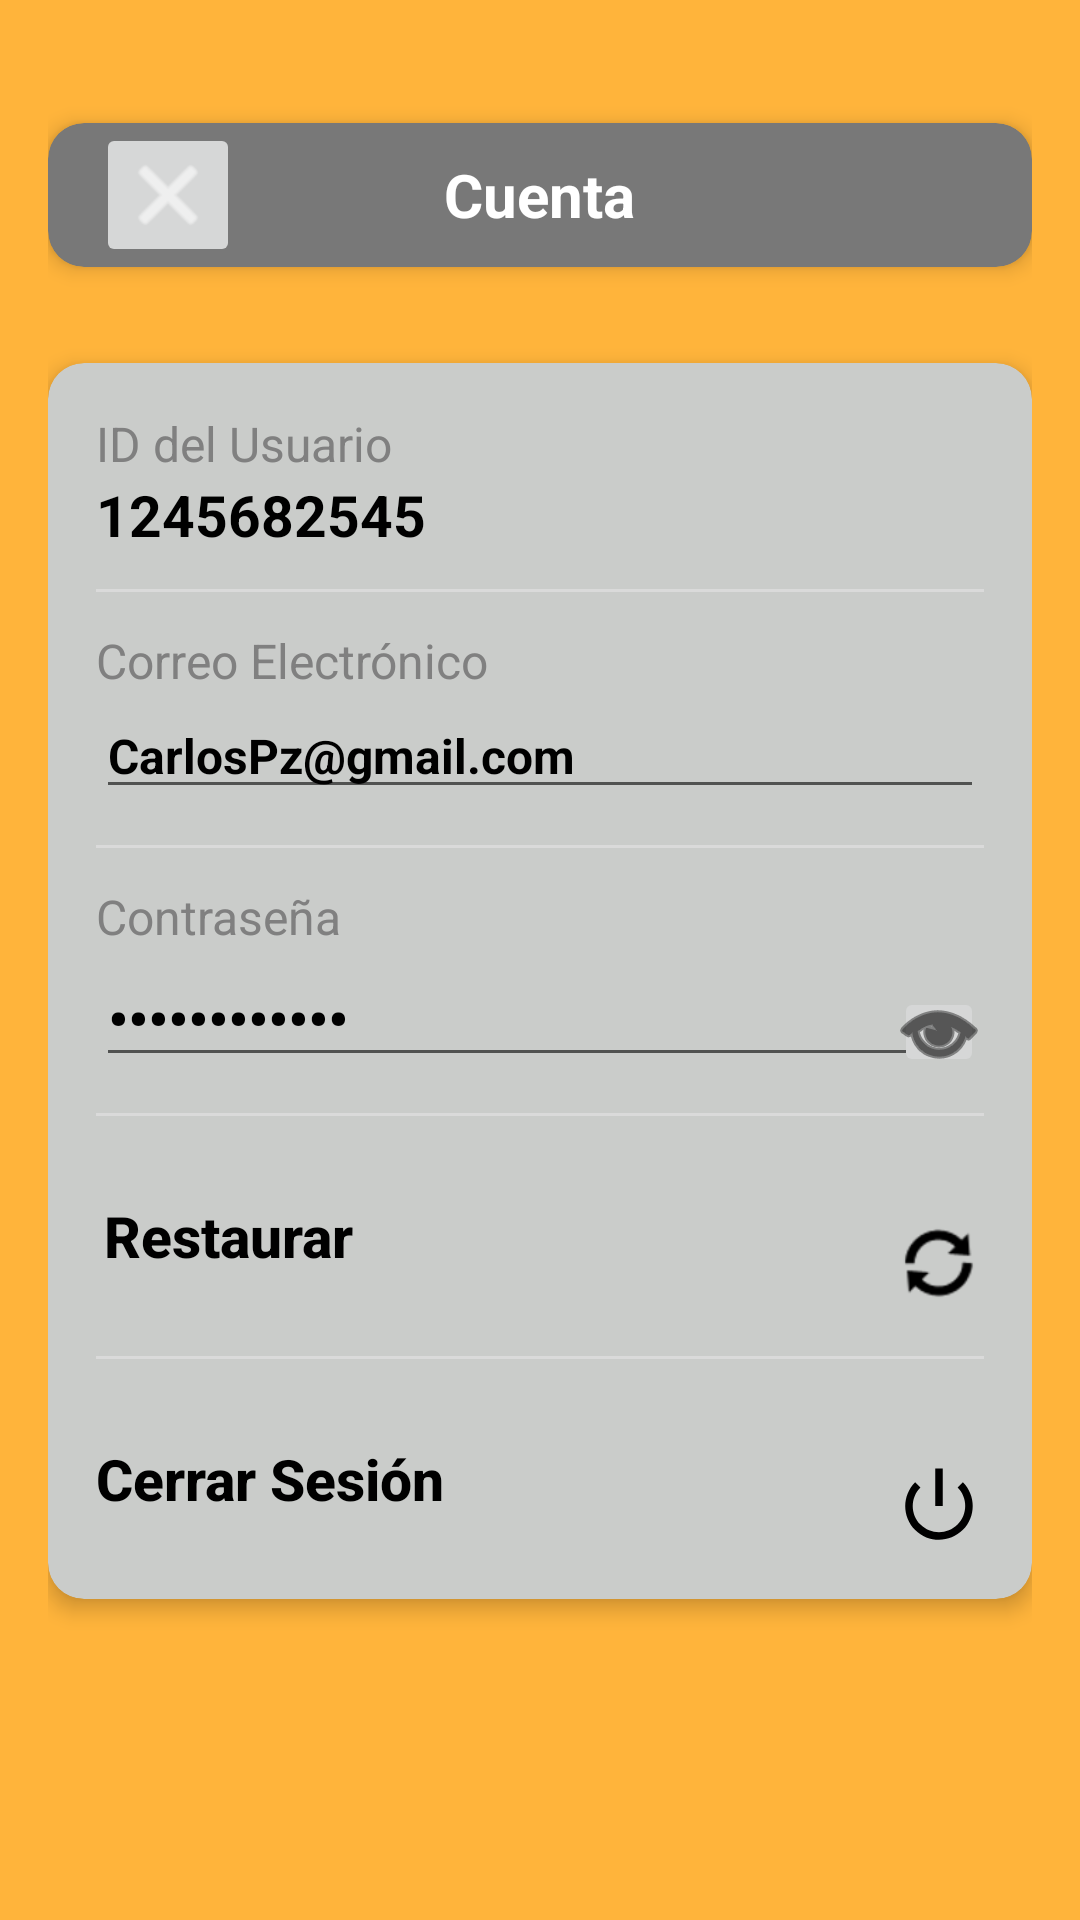

Icons on this 1080 × 1920 Android screen, each with its box as (x1, y1, x2, y2):
Cerrar sesión: (905, 1468, 973, 1540)
Restaurar: (905, 1229, 973, 1297)
Ver contraseña: (900, 1010, 978, 1059)
Volverconfi: (108, 141, 228, 249)
